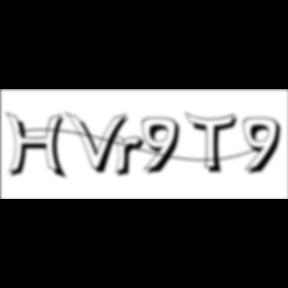9: (242, 117, 288, 177), (142, 117, 186, 177)
H: (6, 112, 72, 182)
T: (185, 112, 243, 176)
V: (66, 110, 132, 176)
r: (113, 134, 151, 180)
